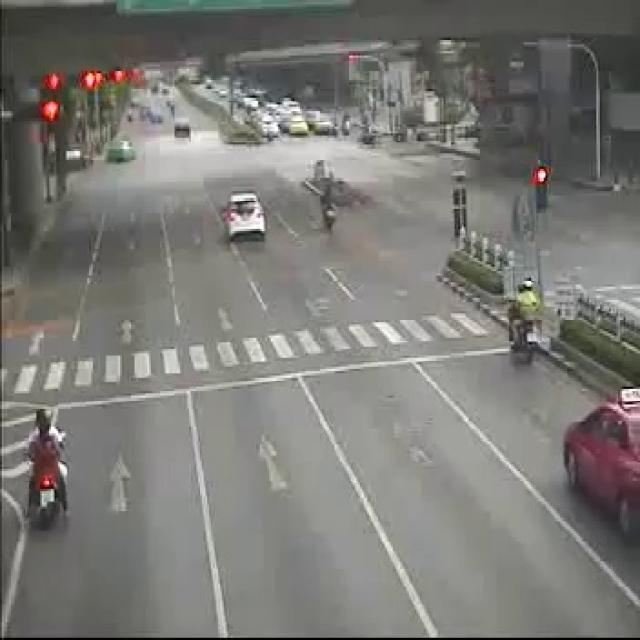car: (562, 386, 638, 538), (220, 192, 263, 236)
motobike: (26, 407, 66, 526), (507, 276, 540, 362)
red_light: (531, 157, 550, 212), (103, 63, 144, 83), (75, 72, 105, 88), (40, 101, 60, 121), (43, 74, 61, 92)
stop_line: (56, 341, 513, 410)
